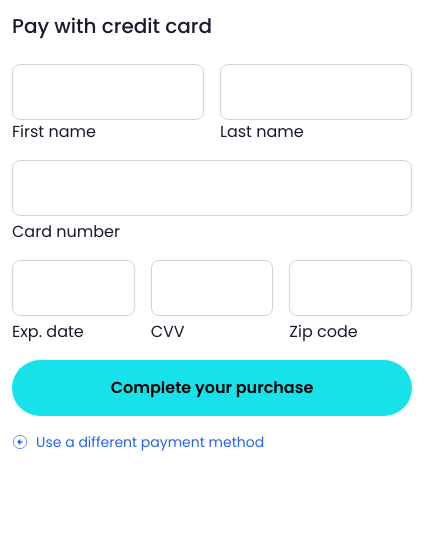
Scenario: CreditCardForm › form validation › shows validation error for empty hosted fields
Type "John" into the 1st field at [108, 92], box [12, 64, 204, 120]
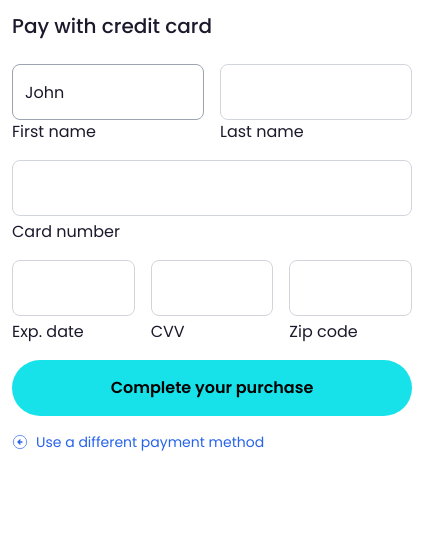
Type "Doe" into the 2nd field at [316, 92], box [220, 64, 412, 120]
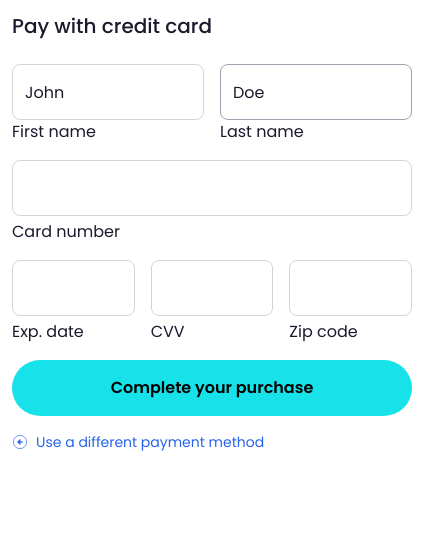
Type "12345" into the 3rd field at [351, 288], box [289, 260, 412, 316]
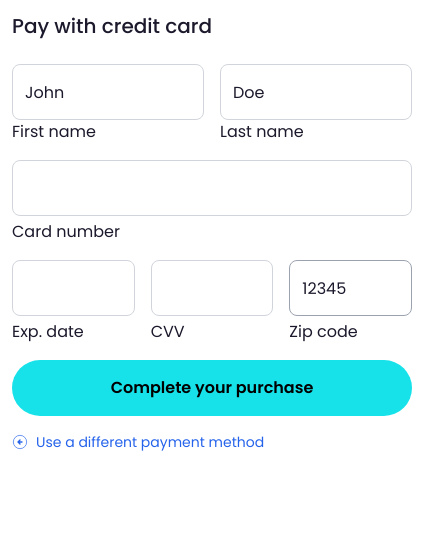
Click the button "Complete your purchase" at [212, 388], box [12, 360, 412, 416]
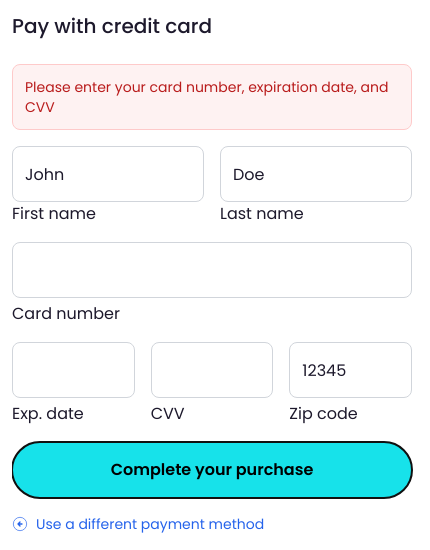
Expected: the text "Please enter your card number, expiration date, and CVV" is shown, [25, 77, 399, 117]
